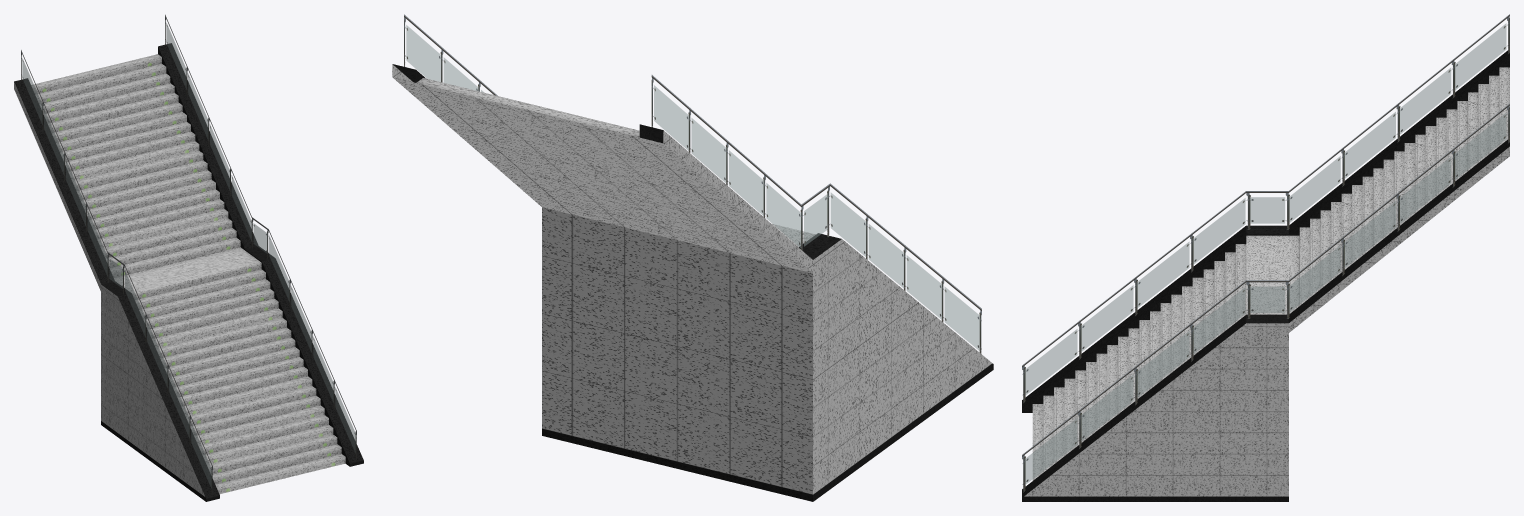
3 renders of one model, left to right at view 1: azimuth 30°, elevation 25°; view 2: azimuth 150°, elevation 25°; view 3: azimuth 270°, elevation 25°, orthographic. The views are drawn at different scales.
Parts seen in each view (by area): view 1: 10M_2X; view 2: 10M_2X; view 3: 10M_2X.
Boxes of the visible parts, bbox=[...] form: 10M_2X: bbox=[14, 14, 363, 501]; 10M_2X: bbox=[392, 14, 993, 501]; 10M_2X: bbox=[1022, 14, 1509, 501].
Bounding box in the file's own units: 5.92 × 11.14 × 12.49.
4 materials, 4 textured.
